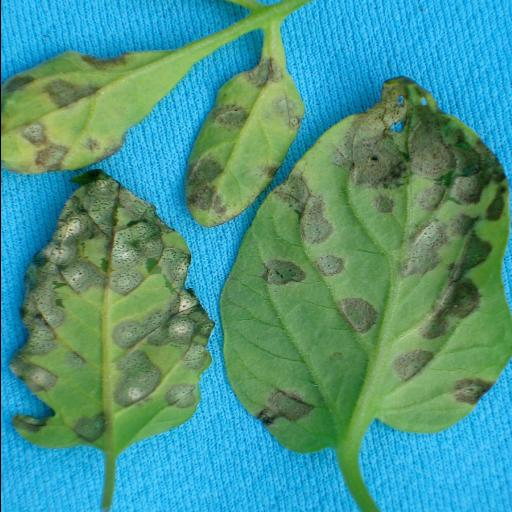Septoria: (215, 73, 505, 455), (4, 166, 214, 452), (0, 47, 214, 173), (180, 55, 306, 233)
